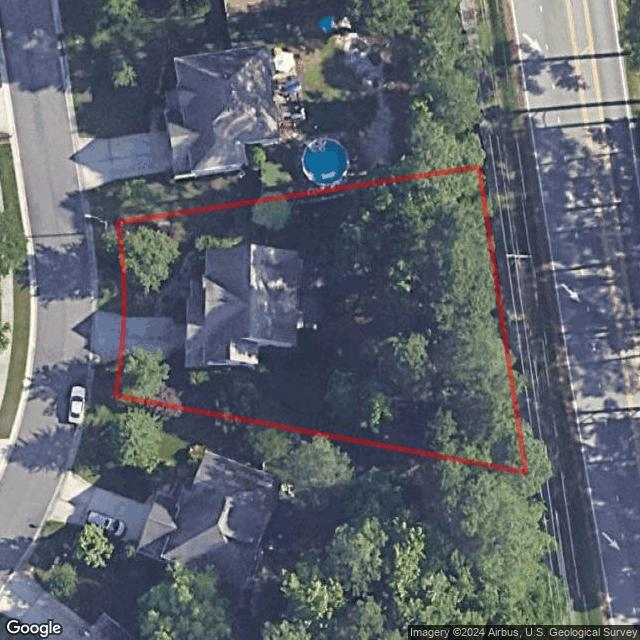Driveway: (123, 317, 186, 359)
Extra-Driveway: (93, 311, 125, 367)
Extra-Lawn: (93, 223, 125, 315), (91, 357, 121, 395)
House: (188, 242, 300, 368)
Lawn: (114, 166, 525, 472)
Other: (298, 288, 327, 332)
Sidewalk: (154, 249, 205, 319)
